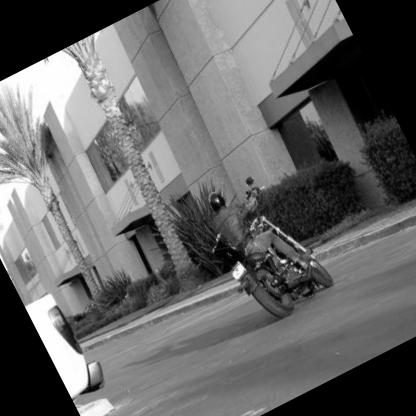moto: (214, 197, 346, 327)
